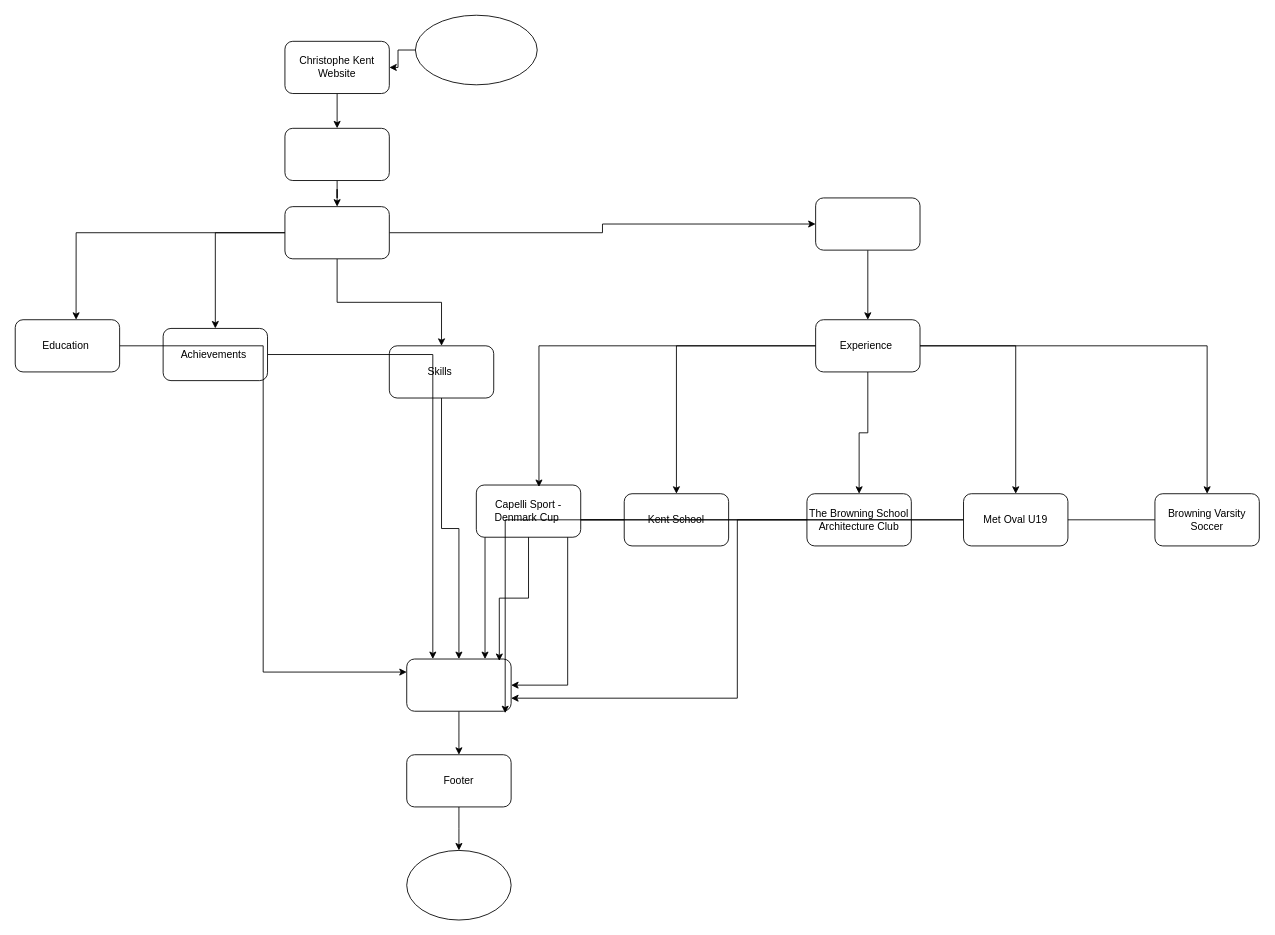
Some shapes in this 1275 by 935 pixel diagram are drawn without their labels. Each missing label, with the box of its shape:
About Me: (815, 197, 920, 250)
Contact: (406, 658, 511, 711)
End: (406, 850, 511, 920)
Header: (284, 127, 389, 181)
Navigation: (284, 206, 389, 259)
Start: (415, 14, 537, 85)
